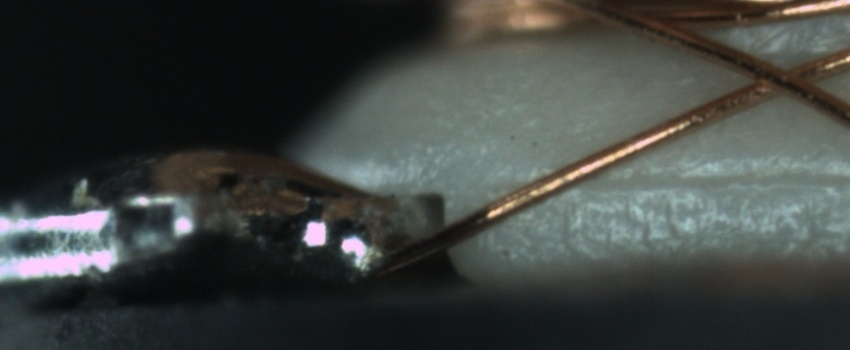CL: (728, 51, 846, 103)
DL: (505, 150, 850, 210)
